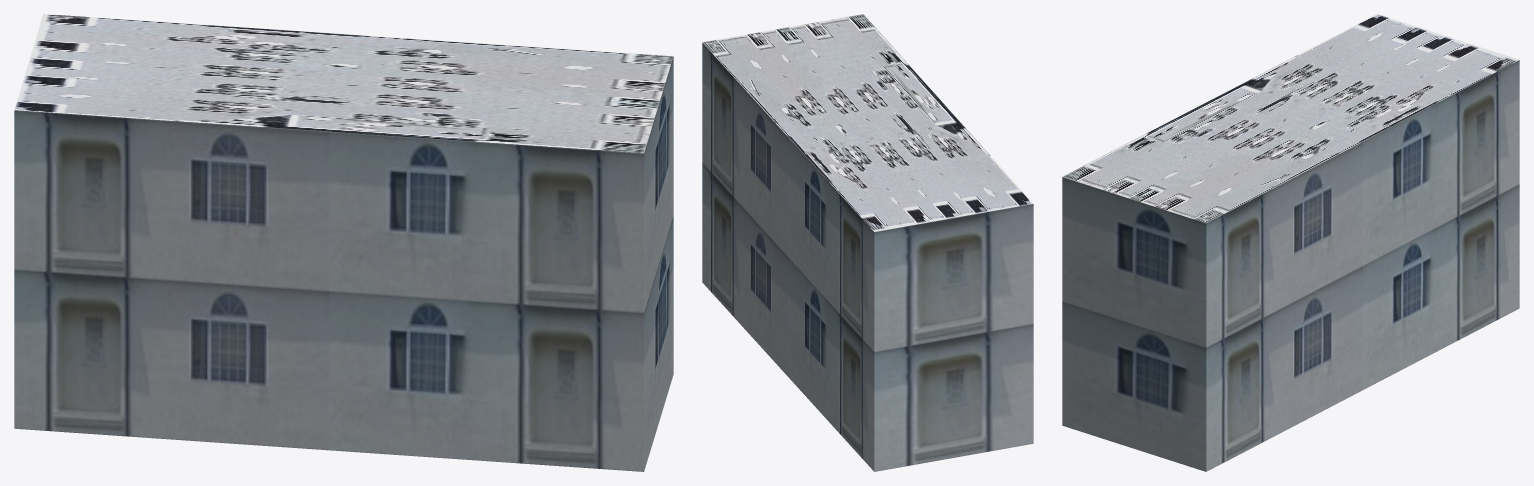
File: ResTex__894.fbx
3 renders of one model, left to right at view 1: azimuth 30°, elevation 25°; view 2: azimuth 150°, elevation 25°; view 3: azimuth 270°, elevation 25°, orthographic. The views are drawn at different scales.
Visible parts, largest first — view 1: CityEngineMaterial_17_m, CityEngineMaterial_2_m; view 2: CityEngineMaterial_17_m, CityEngineMaterial_2_m; view 3: CityEngineMaterial_17_m, CityEngineMaterial_2_m.
Boxes of the visible parts, box(x1,y1,x2,y2) form: CityEngineMaterial_17_m: box(14, 56, 673, 471); CityEngineMaterial_2_m: box(14, 14, 673, 153); CityEngineMaterial_17_m: box(702, 43, 1033, 471); CityEngineMaterial_2_m: box(702, 14, 1033, 231); CityEngineMaterial_17_m: box(1062, 60, 1519, 471); CityEngineMaterial_2_m: box(1063, 14, 1519, 222).
Bounding box in the file's own units: 10.83 × 6 × 10.
2 materials, 2 textured.
